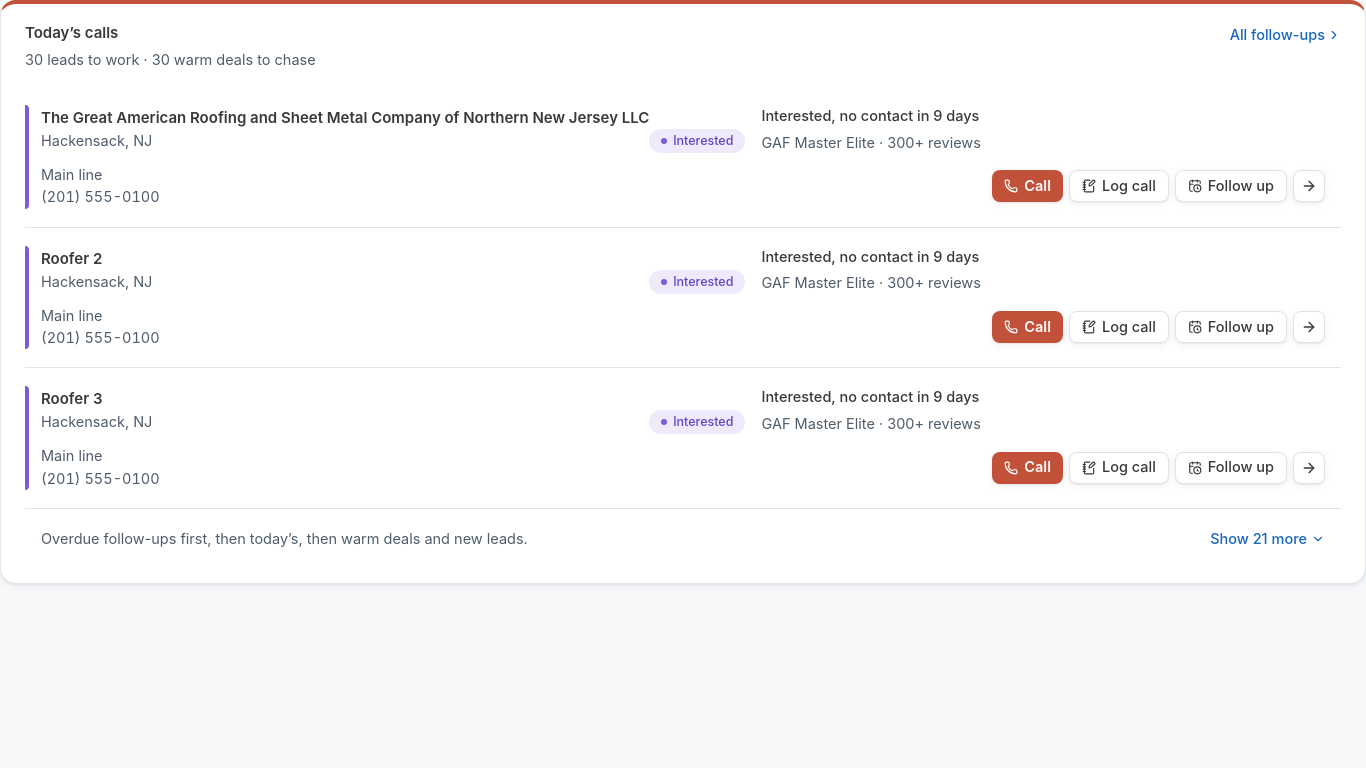
Test: Briefing: three leads first, the rest one click away › shows 3 of 30 and opens up to 24 in place, keeping the order, then closes again
Expected: the link "See every follow-up" is not shown
Click the button "Show 21 more" at (1268, 539), box [1210,523,1325,555]
(page scrolled)
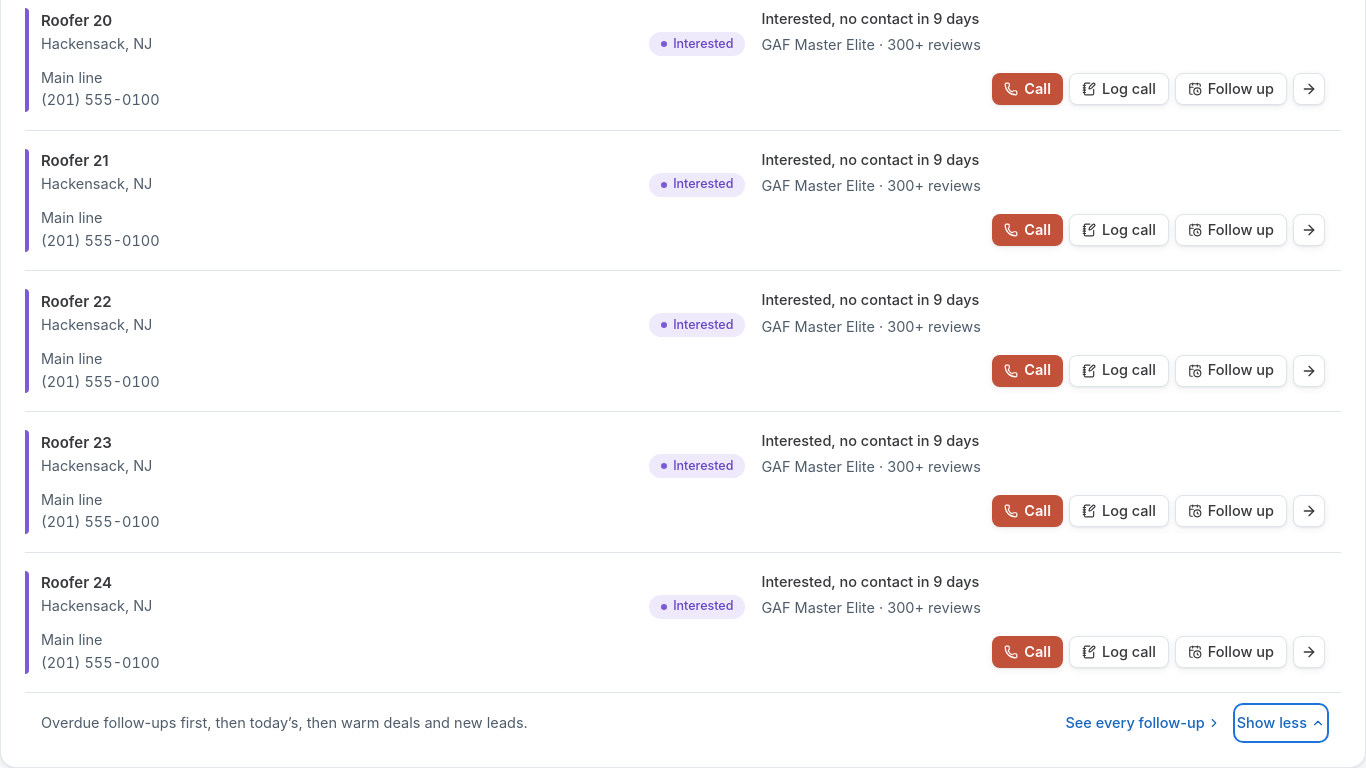
Expected: the button "Show less" is expanded
Click the button "Show less" at (1281, 723), box [1237,707,1325,739]
(page scrolled)
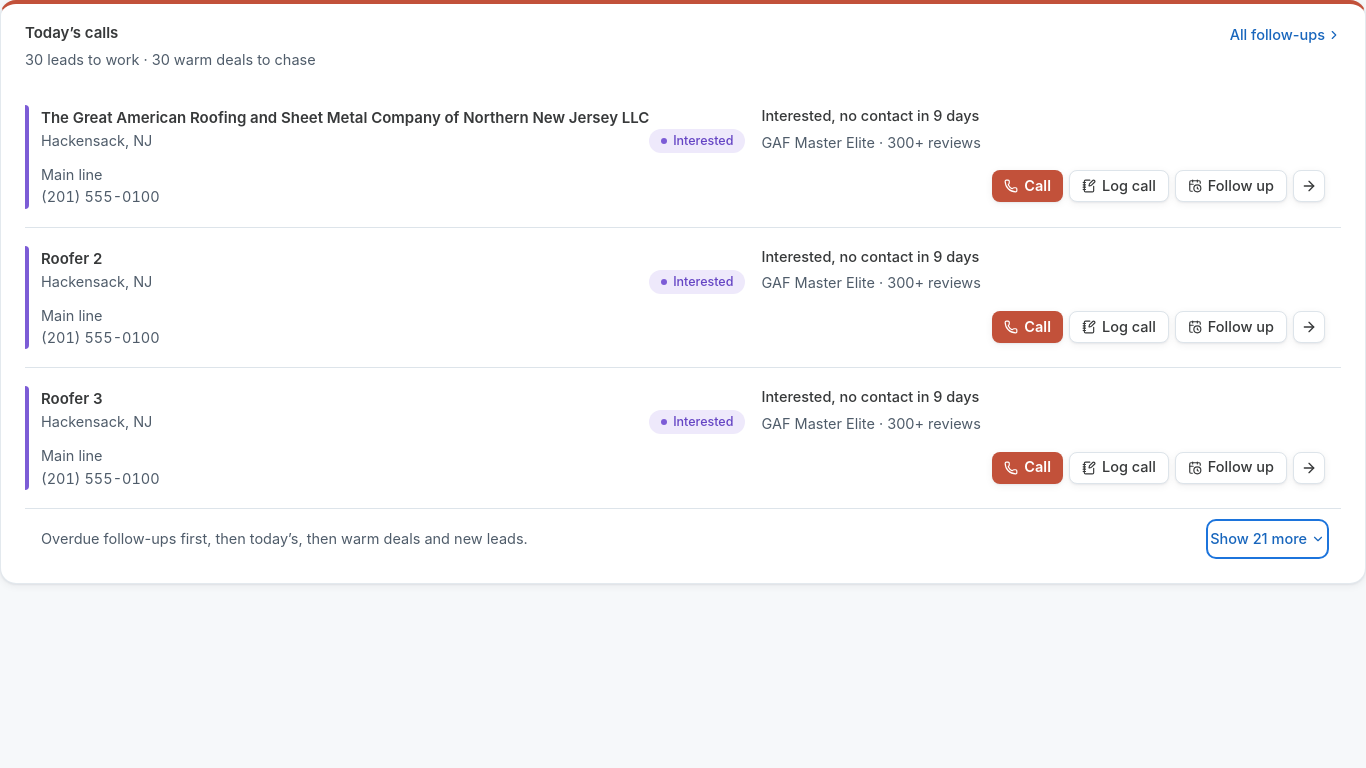
Expected: the number of list items is 3, [25,87,1341,228]; [25,228,1341,368]; [25,368,1341,508]
